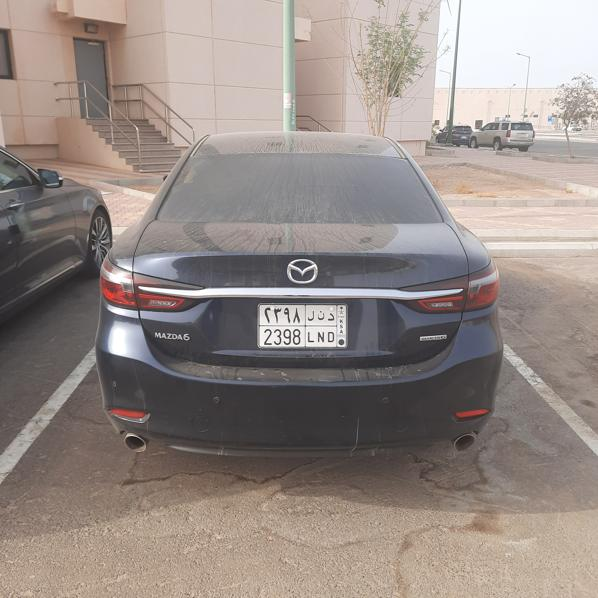numberplate: (258, 303, 347, 348)
